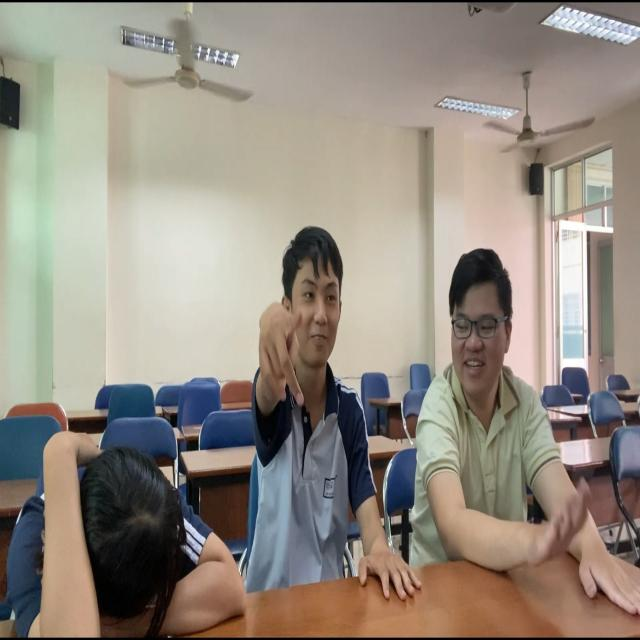sleep: (6, 418, 255, 640)
